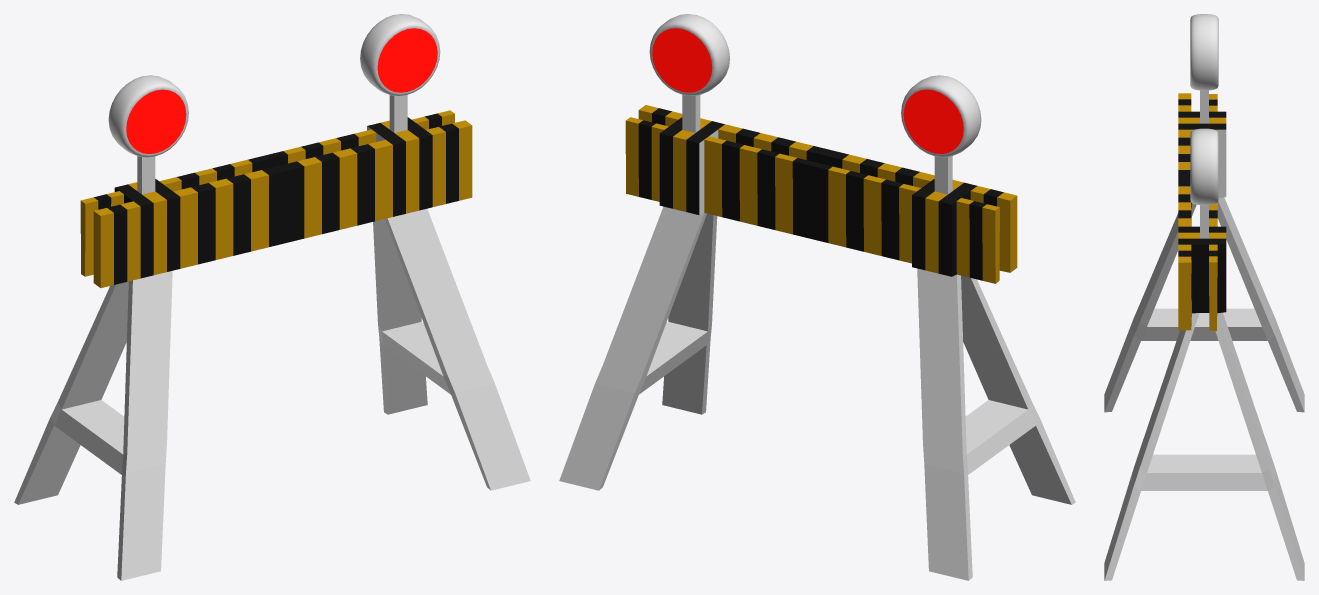
Rendered from runaway_items_roadblock.fbx.
The picture shows the model from 3 angles, left to right: view 1: azimuth 30°, elevation 25°; view 2: azimuth 150°, elevation 25°; view 3: azimuth 270°, elevation 25°; orthographic projection. The views are drawn at different scales.
Parts seen in each view (by area): view 1: Cube, Cylinder; view 2: Cube, Cylinder; view 3: Cube, Cylinder.
Boxes of the visible parts, x1,y1,x2,y2 form: Cube: (14,95,530,580); Cylinder: (108,14,440,157); Cube: (559,95,1075,580); Cylinder: (649,14,981,157); Cube: (1104,90,1304,580); Cylinder: (1190,14,1218,205).
Size of the model in its own units: 1009 by 1043 by 457.
